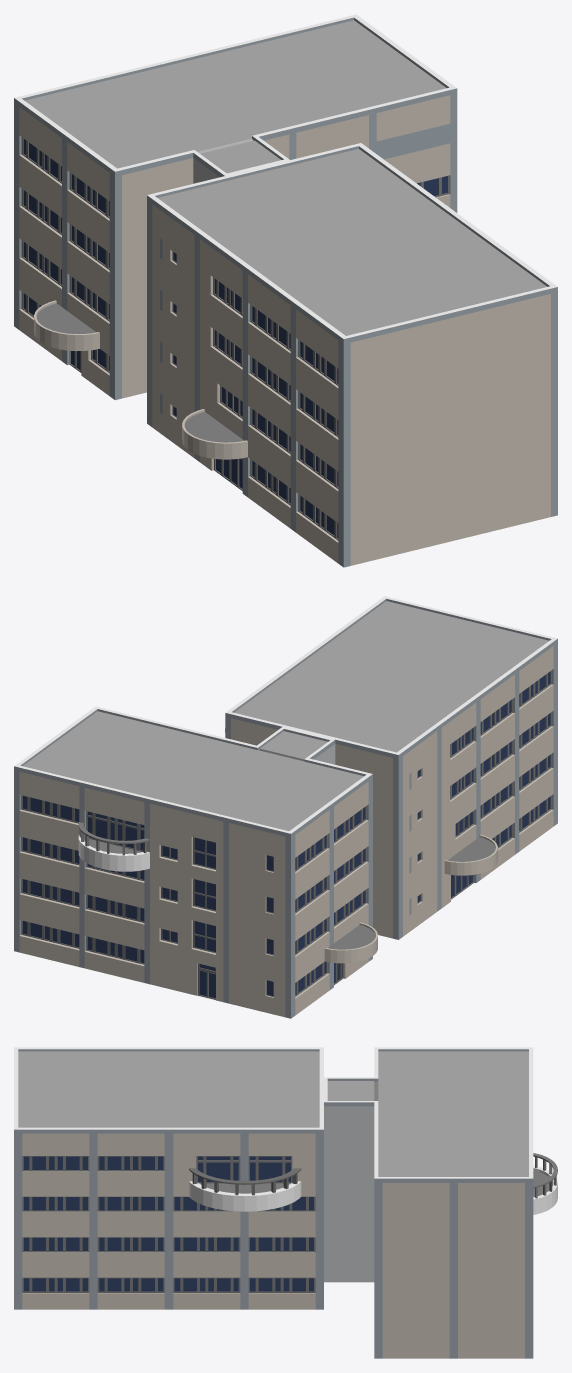
File: Building_QR.fbx
3 views of the same model, one above another, from view 1: azimuth 30°, elevation 25°; view 2: azimuth 150°, elevation 25°; view 3: azimuth 270°, elevation 25° (orthographic). The views are drawn at different scales.
Visible parts, largest first — view 1: Building_QR; view 2: Building_QR; view 3: Building_QR.
Boxes of the visible parts, x1,y1,x2,y2 form: Building_QR: (14, 14, 557, 567); Building_QR: (14, 596, 557, 1018); Building_QR: (14, 1047, 557, 1358).
Size of the model in its own units: 26.82 by 15.4 by 42.21.
